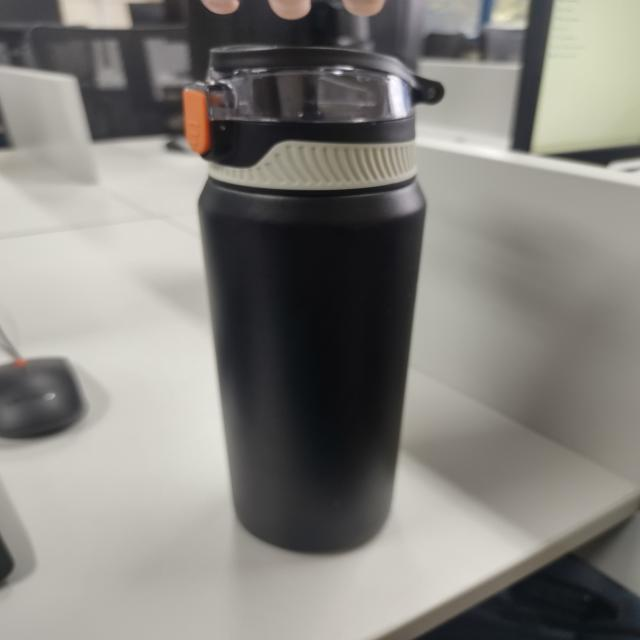Garrafa: (127, 27, 448, 563)
